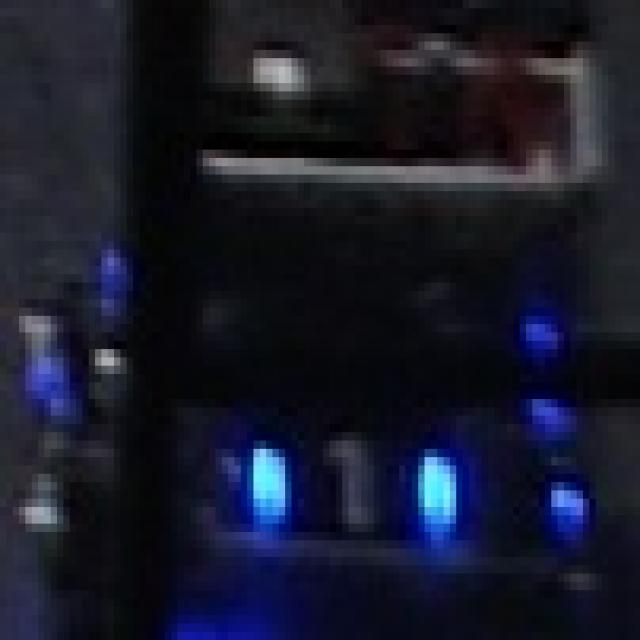B1: (241, 412, 469, 544)
